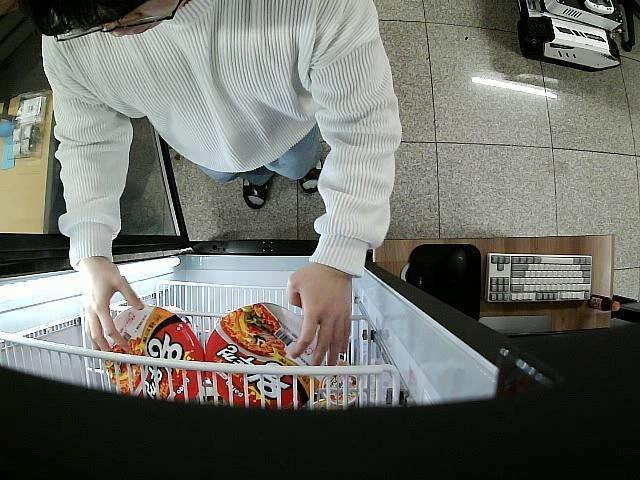10_wangTtukkeong: (200, 304, 322, 407), (98, 304, 204, 404)
